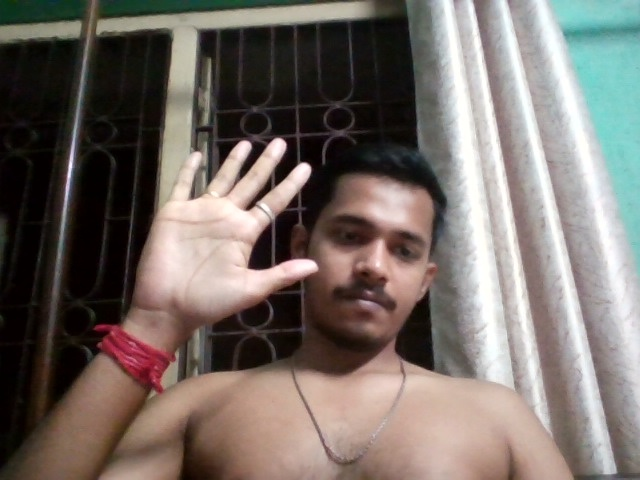Hello: (105, 135, 322, 315)
